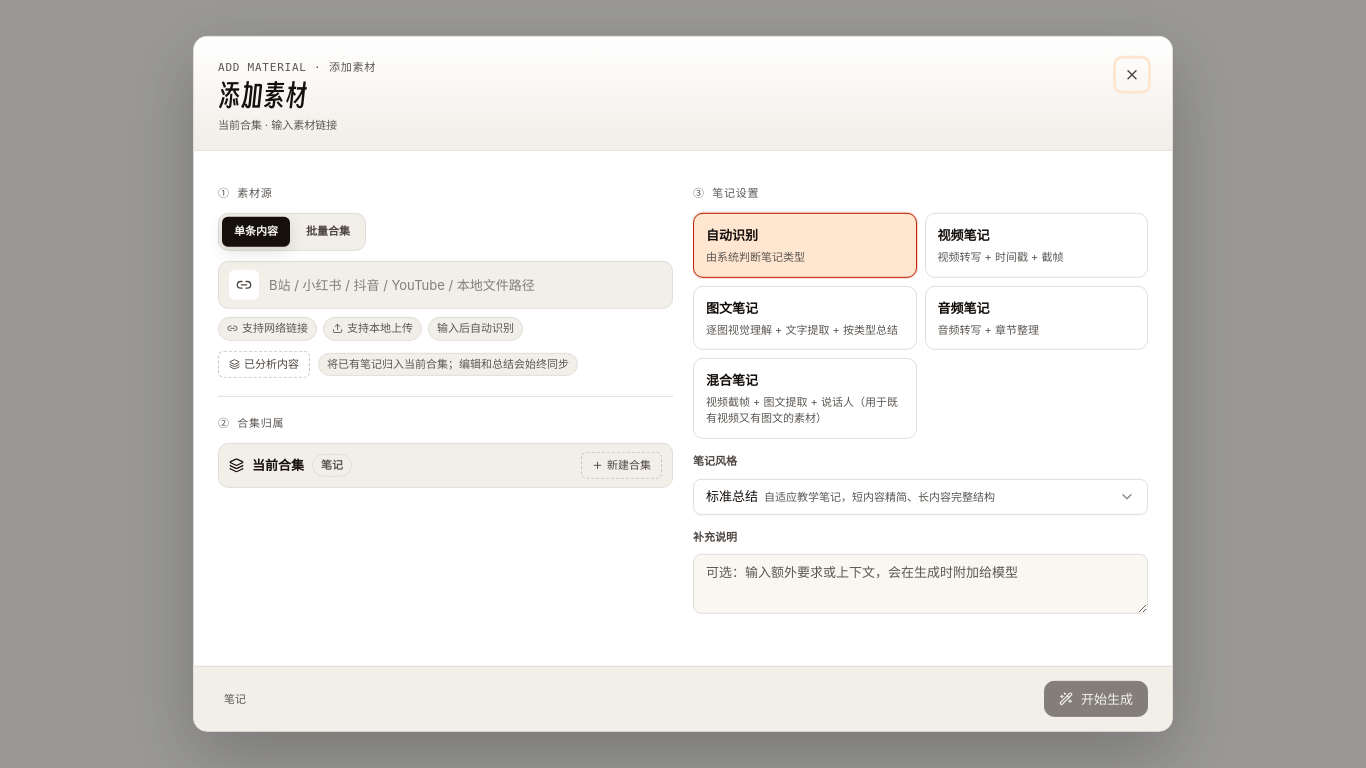
AddMaterialModal › 内部输入链接后自动嗅探并展示视频卡
In the field with placeholder "B站 / 小红书 / 抖音 / YouTube / 本地文件路径": point(466, 285) [269,274,662,295], type "https://example.com/article"
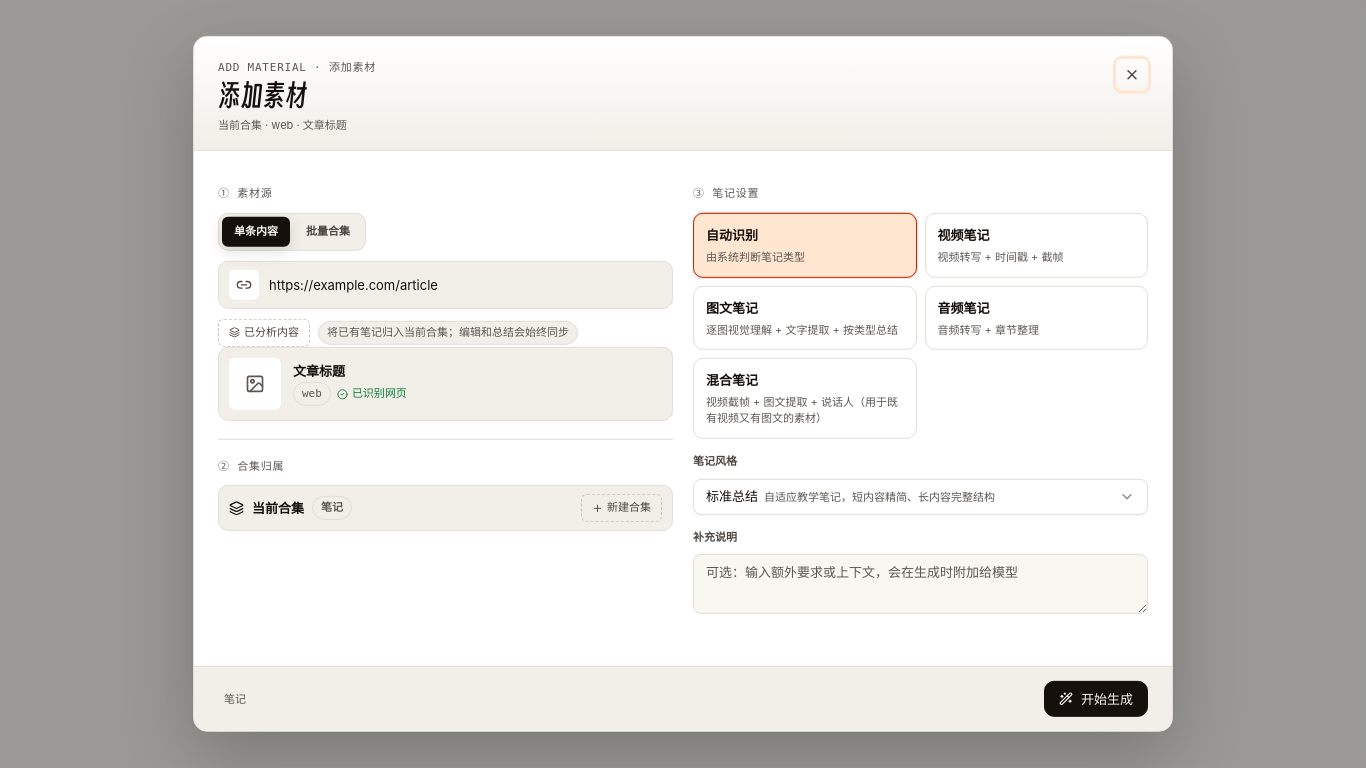
Check: the text "文章标题" is shown, box [293,363,345,379]
Check: the text "已识别网页" is shown, box [337,385,407,403]
